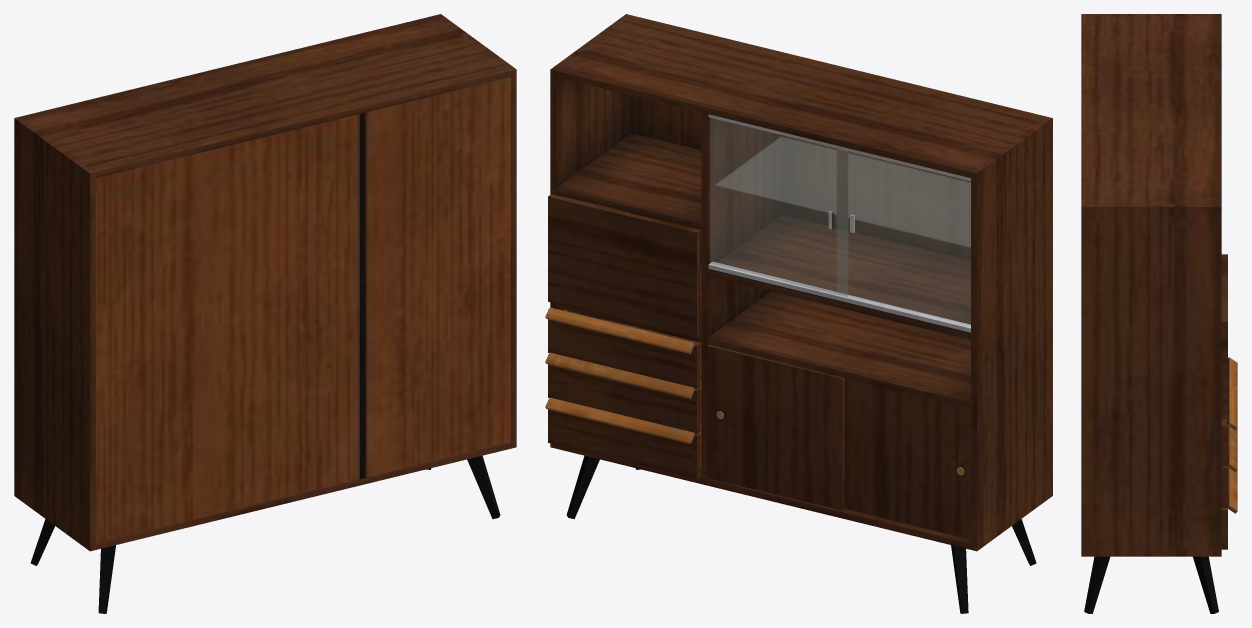
File: bookcase_60s_lod1_web.glb
3 views of the same model, side by side, from view 1: azimuth 30°, elevation 25°; view 2: azimuth 150°, elevation 25°; view 3: azimuth 270°, elevation 25° (orthographic). The views are drawn at different scales.
Visible parts, largest first — view 1: Bookcase60s_Body; view 2: Bookcase60s_Body, Glass_Slide_Glass_L, Glass_Slide_Glass_R, Slide_Doors_L_Mesh, Slide_Doors_R_Mesh, Flap_1_Mesh, Glass_Shelf_60s, Drawer_1_3_Mesh, Drawer_1_1_Mesh, Drawer_1_2_Mesh, Chrome_Bookcase60s; view 3: Bookcase60s_Body, Flap_1_Mesh, Drawer_1_3_Mesh, Drawer_1_1_Mesh, Drawer_1_2_Mesh.
Boxes of the visible parts, <box> form: Bookcase60s_Body: <box>14,14,516,613</box>; Bookcase60s_Body: <box>545,14,1052,613</box>; Glass_Slide_Glass_L: <box>710,118,847,296</box>; Glass_Slide_Glass_R: <box>837,149,970,324</box>; Slide_Doors_L_Mesh: <box>707,345,844,510</box>; Slide_Doors_R_Mesh: <box>844,378,970,539</box>; Flap_1_Mesh: <box>548,194,700,337</box>; Glass_Shelf_60s: <box>716,137,970,246</box>; Drawer_1_3_Mesh: <box>548,307,701,388</box>; Drawer_1_1_Mesh: <box>548,399,701,478</box>; Drawer_1_2_Mesh: <box>548,354,701,433</box>; Chrome_Bookcase60s: <box>708,114,970,332</box>; Bookcase60s_Body: <box>1081,14,1237,613</box>; Flap_1_Mesh: <box>1221,254,1227,418</box>; Drawer_1_3_Mesh: <box>1221,419,1227,466</box>; Drawer_1_1_Mesh: <box>1221,508,1227,549</box>; Drawer_1_2_Mesh: <box>1221,466,1227,507</box>.
Bounding box in the file's own units: 1.3 × 1.3 × 0.445.
4 materials, 3 textured.
